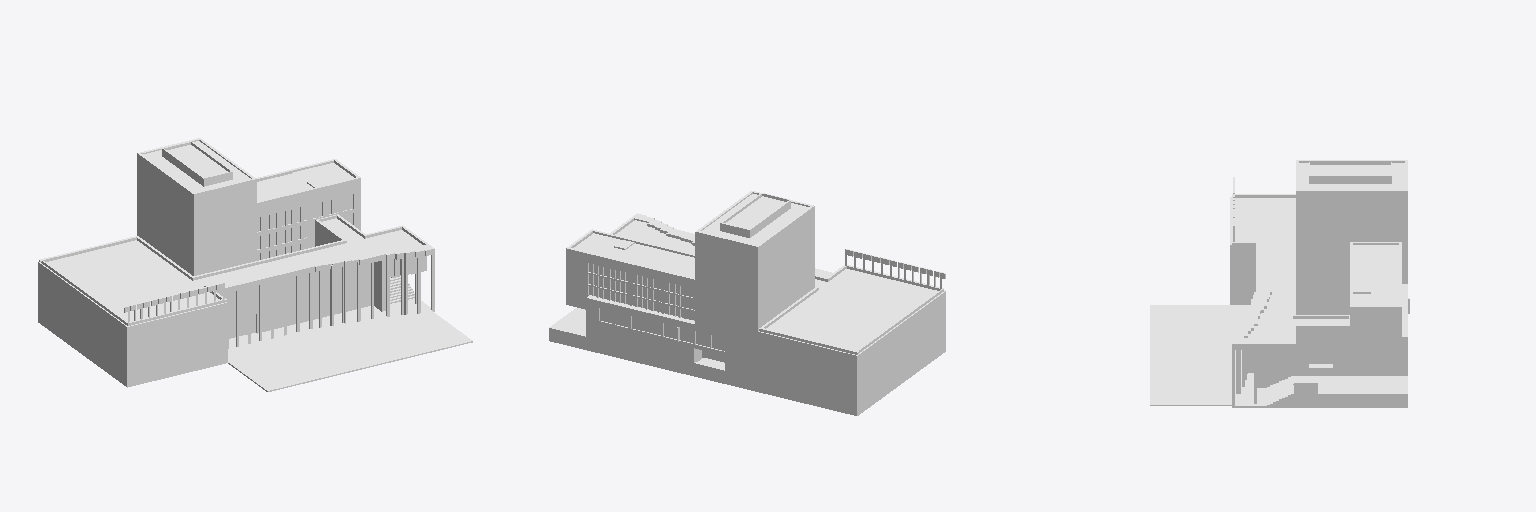
File: 백년관.obj
3 views of the same model, side by side, from view 1: azimuth 30°, elevation 25°; view 2: azimuth 150°, elevation 25°; view 3: azimuth 270°, elevation 25° (orthographic).
Parts seen in each view (by area): view 1: object 1; view 2: object 1; view 3: object 1.
Boxes of the visible parts, box(x1,y1,x2,y2) form: object 1: box(38, 138, 472, 391); object 1: box(549, 191, 945, 415); object 1: box(1150, 160, 1409, 407).
Bounding box in the file's own units: 24.1 × 11.3 × 17.5.